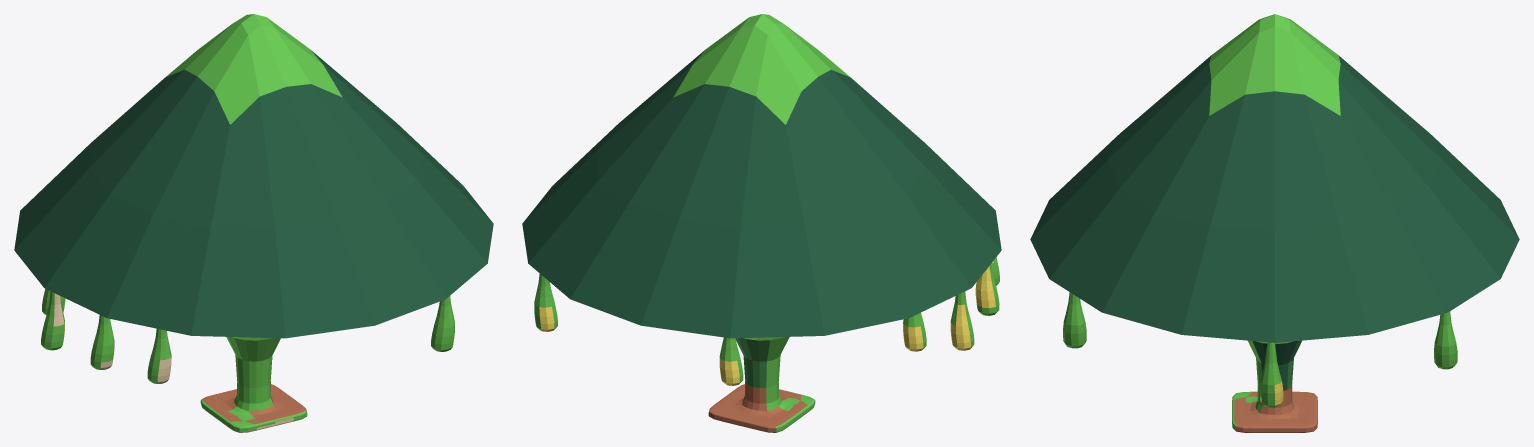
Rendered from Tree.fbx.
The picture shows the model from 3 angles, left to right: view 1: azimuth 30°, elevation 25°; view 2: azimuth 150°, elevation 25°; view 3: azimuth 270°, elevation 25°; orthographic projection.
Parts seen in each view (by area): view 1: Tree; view 2: Tree; view 3: Tree.
Boxes of the visible parts, <box> form: Tree: <box>14,14,493,432</box>; Tree: <box>522,14,1001,432</box>; Tree: <box>1030,14,1519,432</box>.
Bounding box in the file's own units: 519 × 469 × 517.
